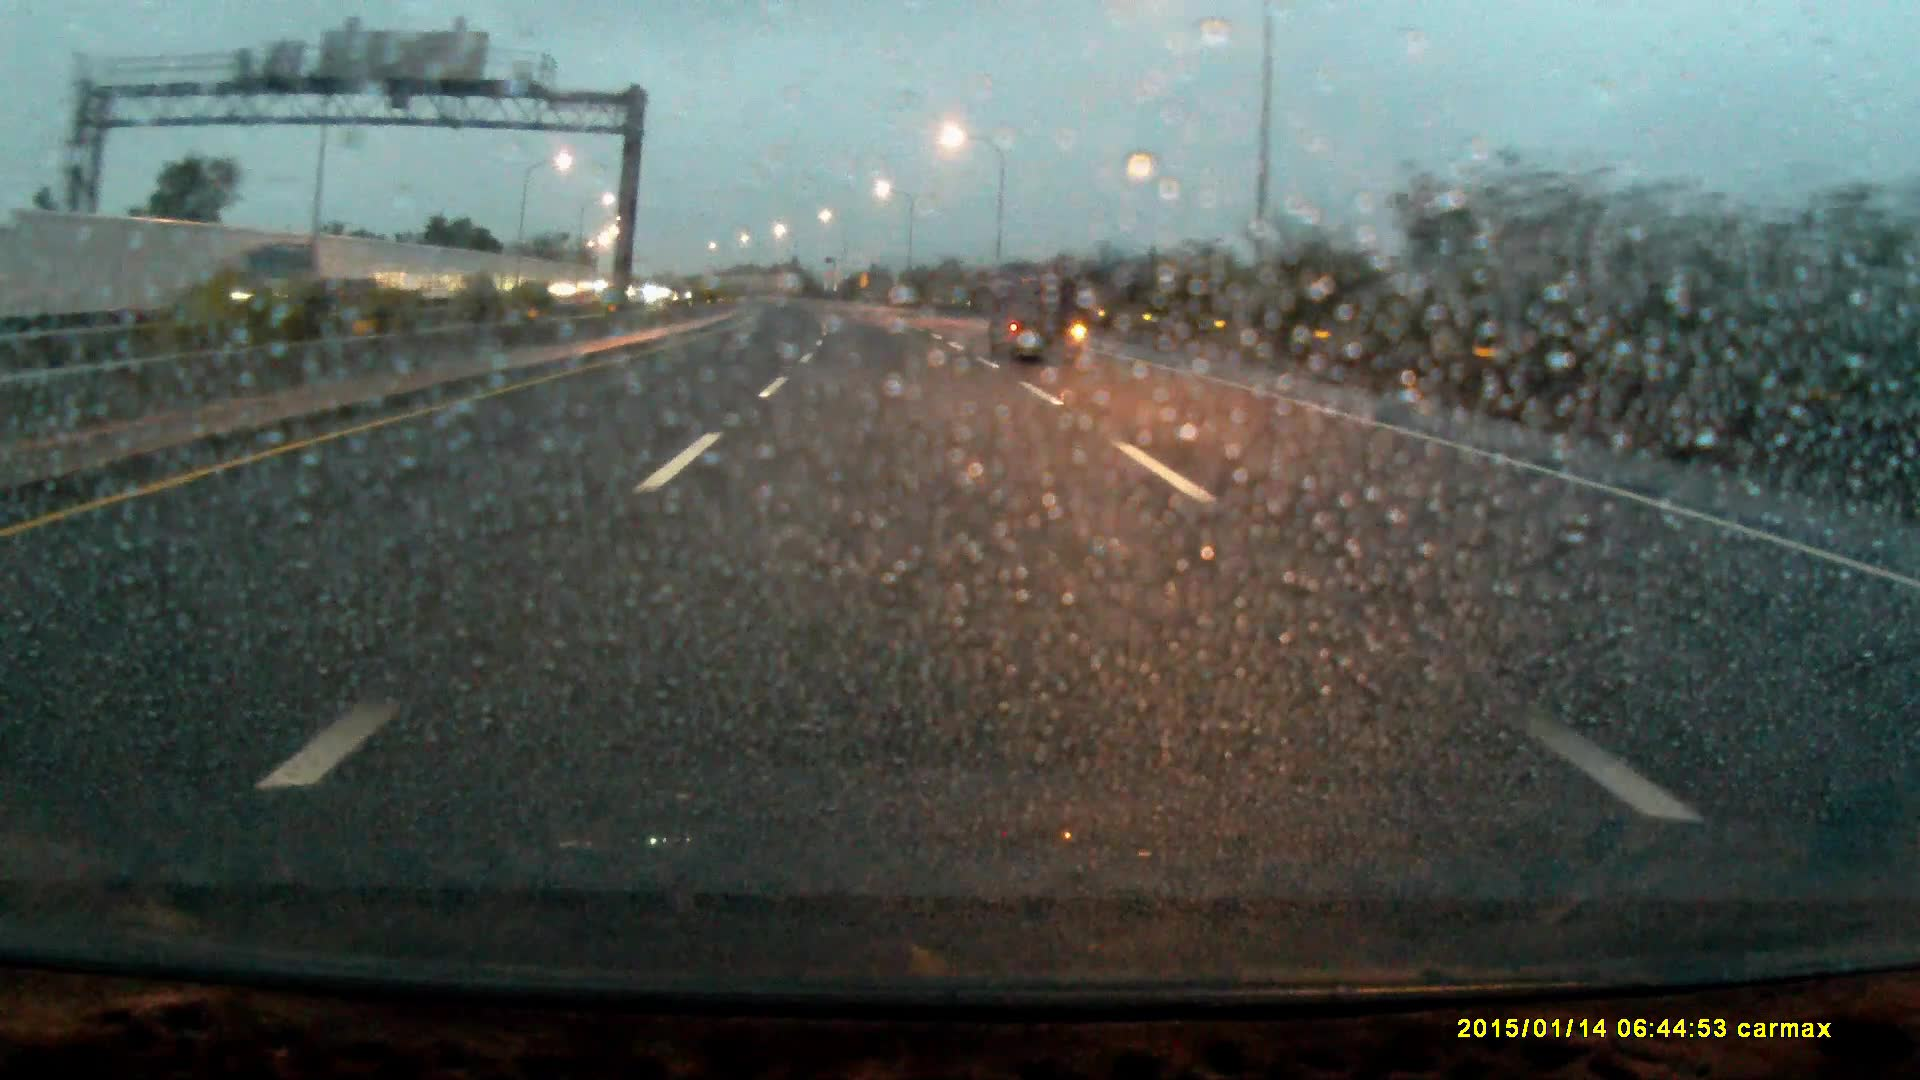vehicle: (225, 241, 373, 323), (997, 274, 1084, 367)
